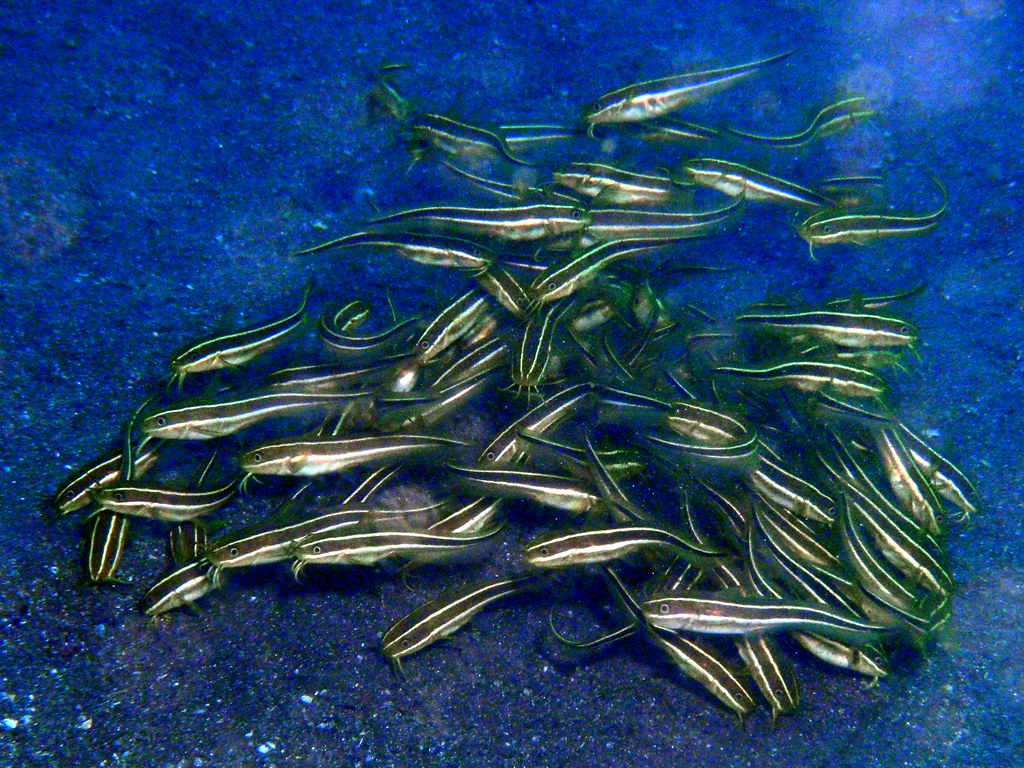gonzui: (241, 432, 479, 474)
